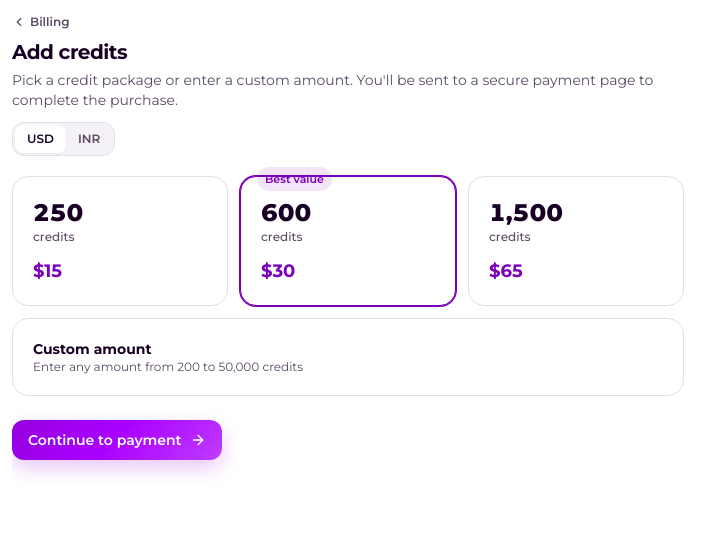
Scenario: AddCredits › shows a live price as a valid custom amount is entered
The width and height of the screenshot is (703, 545).
Expected: the text "$15" is shown, top-left (33, 260), bottom-right (62, 282)
Click the text "Custom amount" at [92, 349], box top-left (33, 340), bottom-right (152, 358)
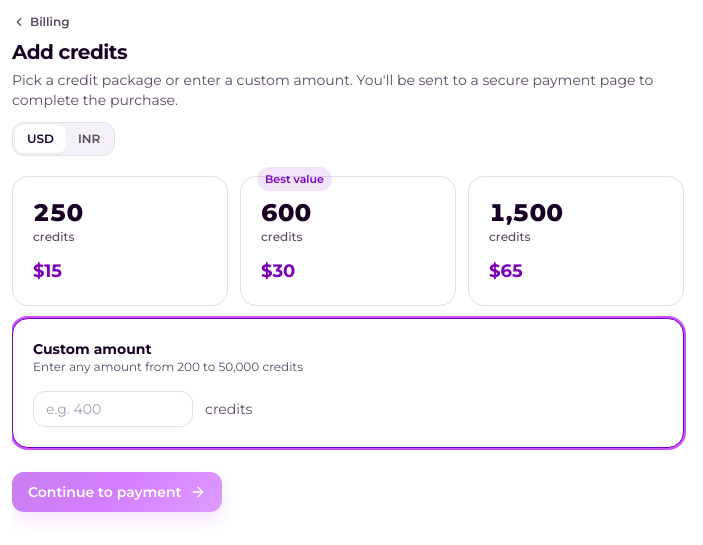
Type "999" into the number field with placeholder "e.g. 400" at [113, 409], box top-left (33, 391), bottom-right (193, 427)
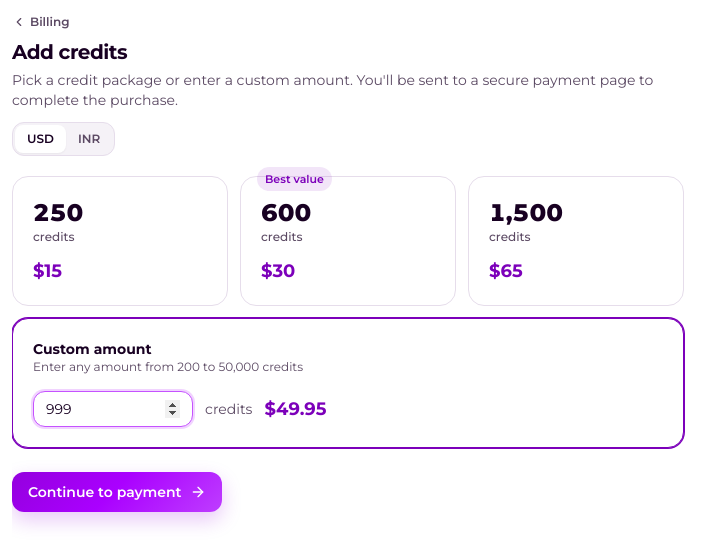
Result: the text "$49.95" is shown at top-left (264, 395), bottom-right (326, 423)
